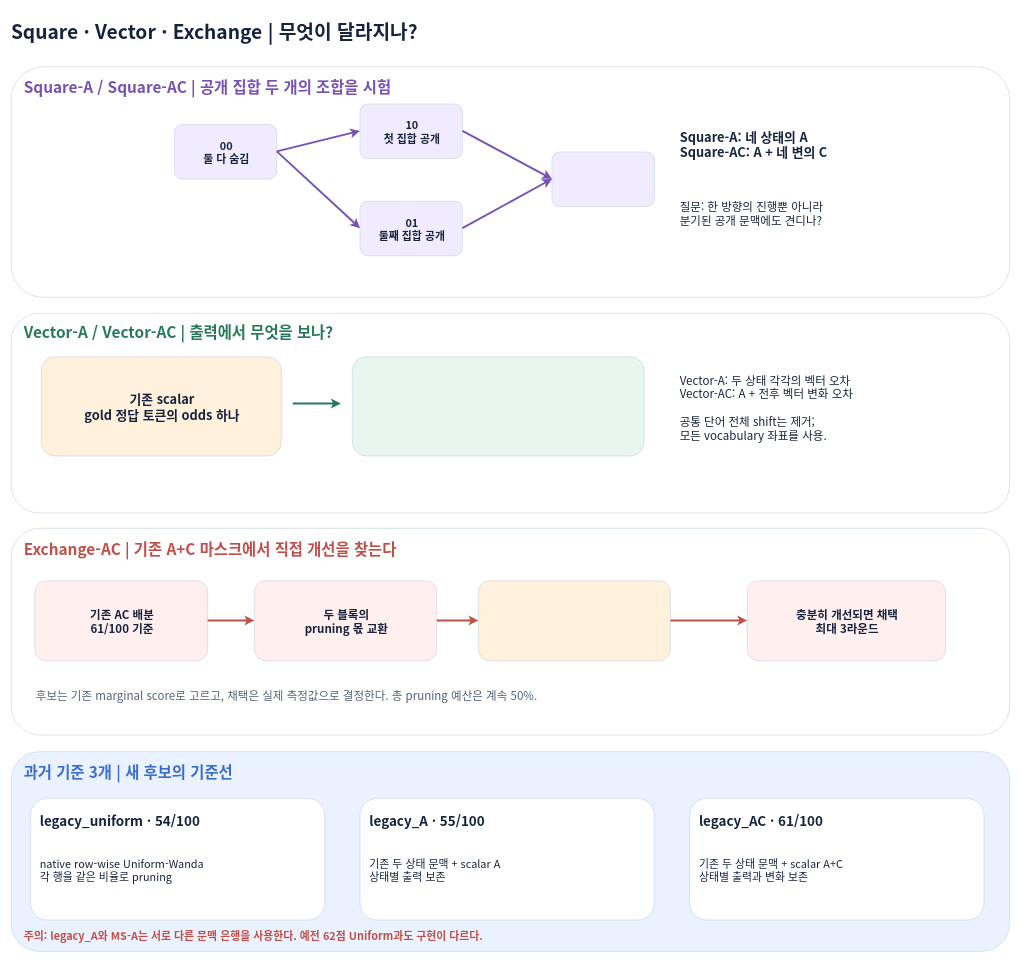
Some shapes in this 1021 by 963 pixel diagram are drawn without their labels. The shapes that lost their labels are listed below. From the top down, each one's centre as x and y in pixels, then its label:
point (602, 178): 11 둘 다 공개
point (498, 406): Vector 전체 단어 logits의 상대적 차이
point (574, 620): 전체 calibration bank에서 실제 A+C 다시 측정
